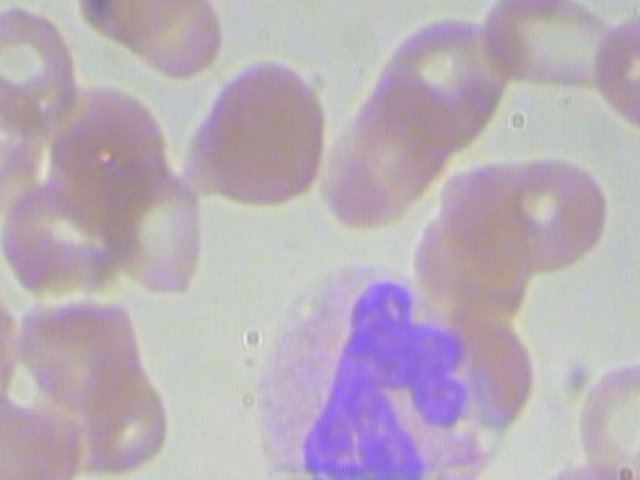RBC: (180, 56, 332, 210), (469, 0, 628, 94), (592, 7, 640, 136), (528, 456, 640, 480)
WBC: (241, 254, 522, 480)
